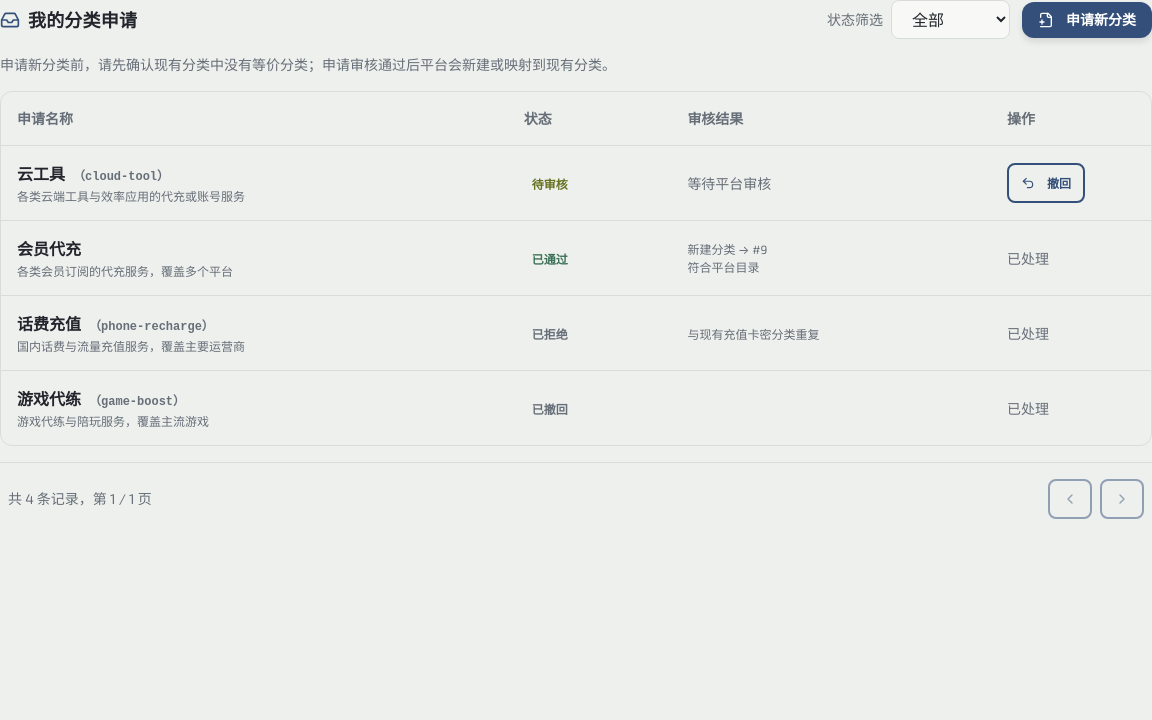
Test case: CategoryApplicationPanel › validates create input and prevents a second submit while the request is in flight
expect the row with test id "application-row-101" is shown: met, box [1,146,1151,221]
Click the button with test id "merchant-application-create".
click(1087, 20)  # box [1022,2,1151,38]
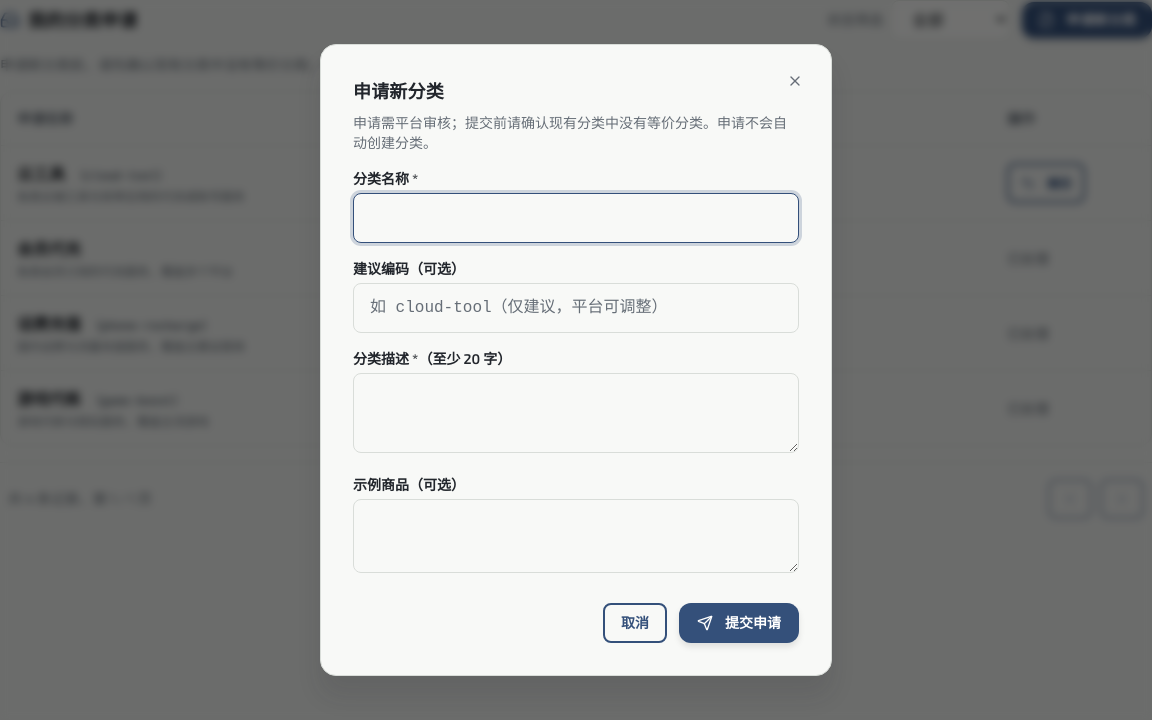
Type "云工具" into the field with test id "application-form-label".
click(576, 218); type("云工具")  # box [353,193,799,243]
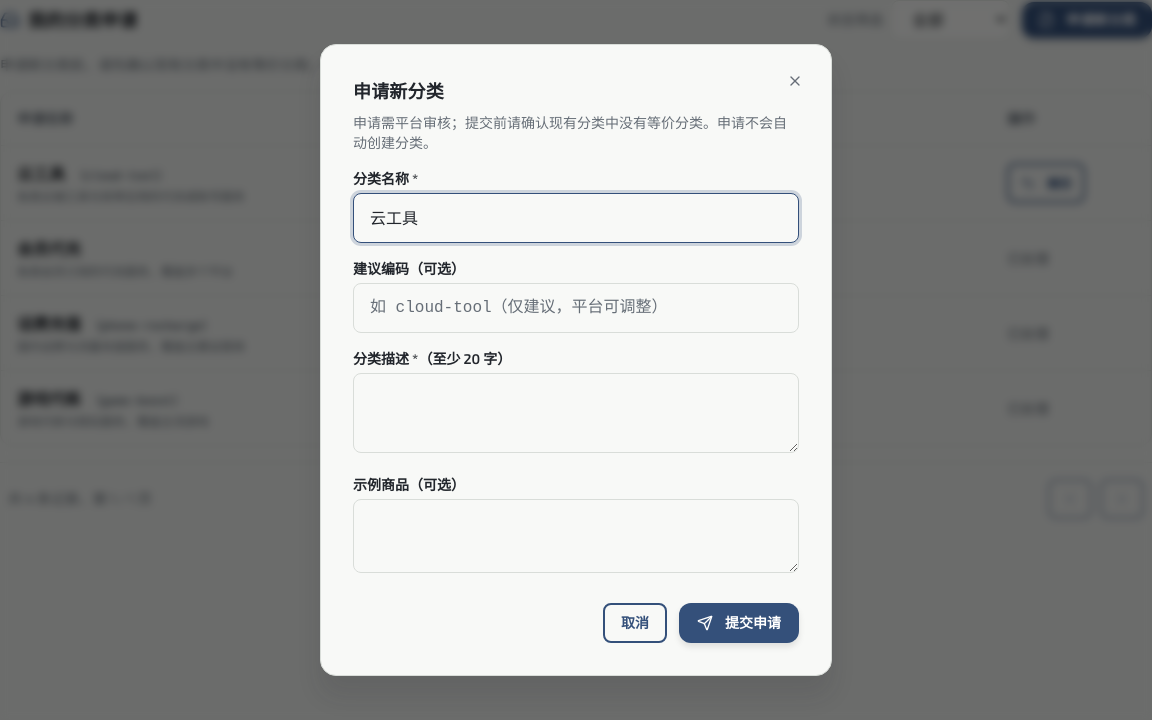
Type "这是一个用于验证分类申请流程的完整描述文本。" into the text box with test id "application-form-description".
click(576, 413); type("这是一个用于验证分类申请流程的完整描述文本。")  # box [353,373,799,453]
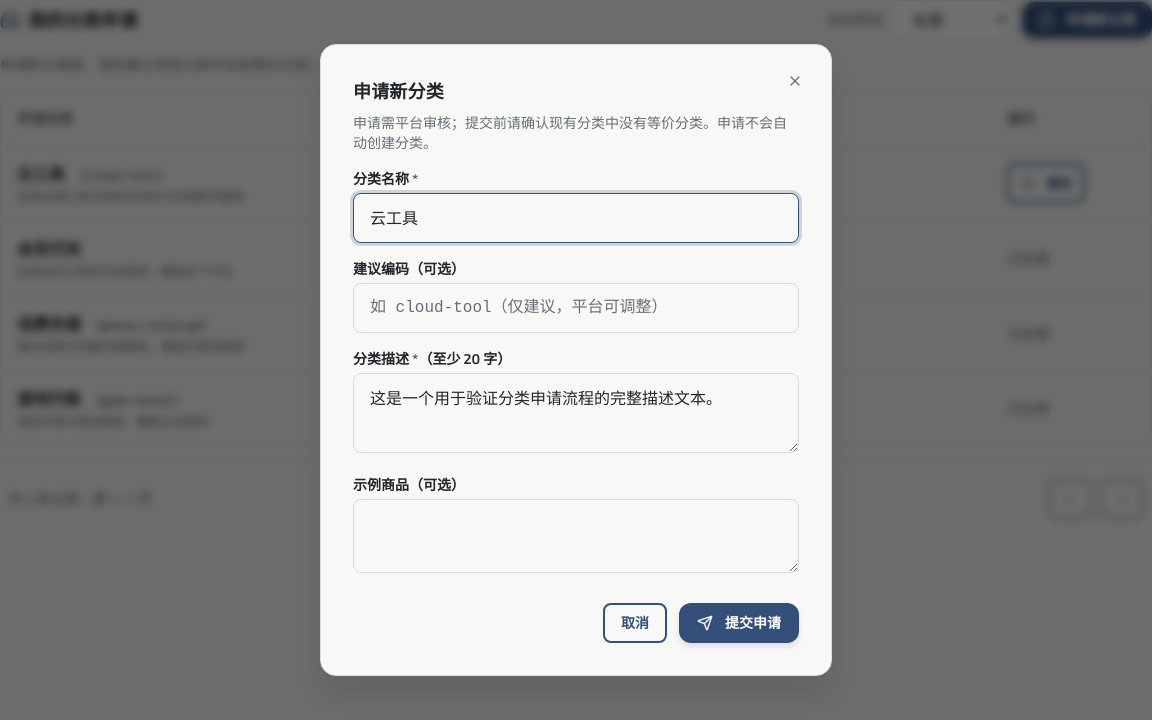
Click the button with test id "application-form-submit".
click(739, 623)  # box [679,603,799,643]
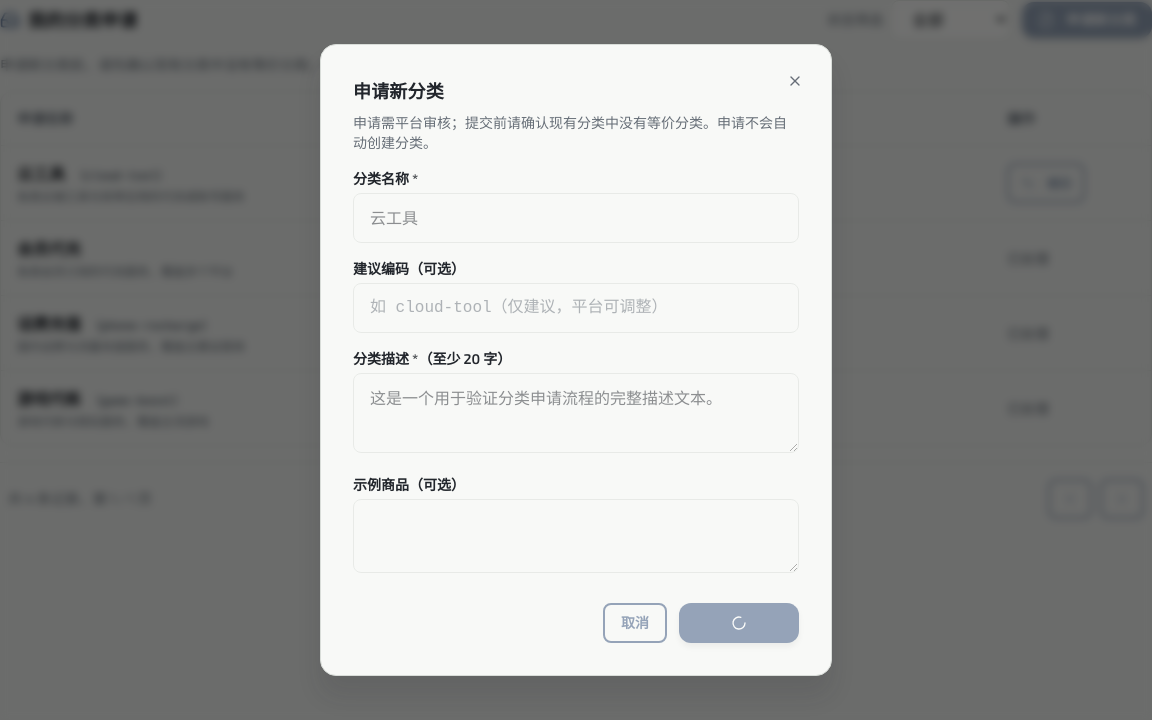
expect the button with test id "application-form-submit" is disabled: met
Click the button with test id "application-form-submit".
click(739, 623)  # box [679,603,799,643]
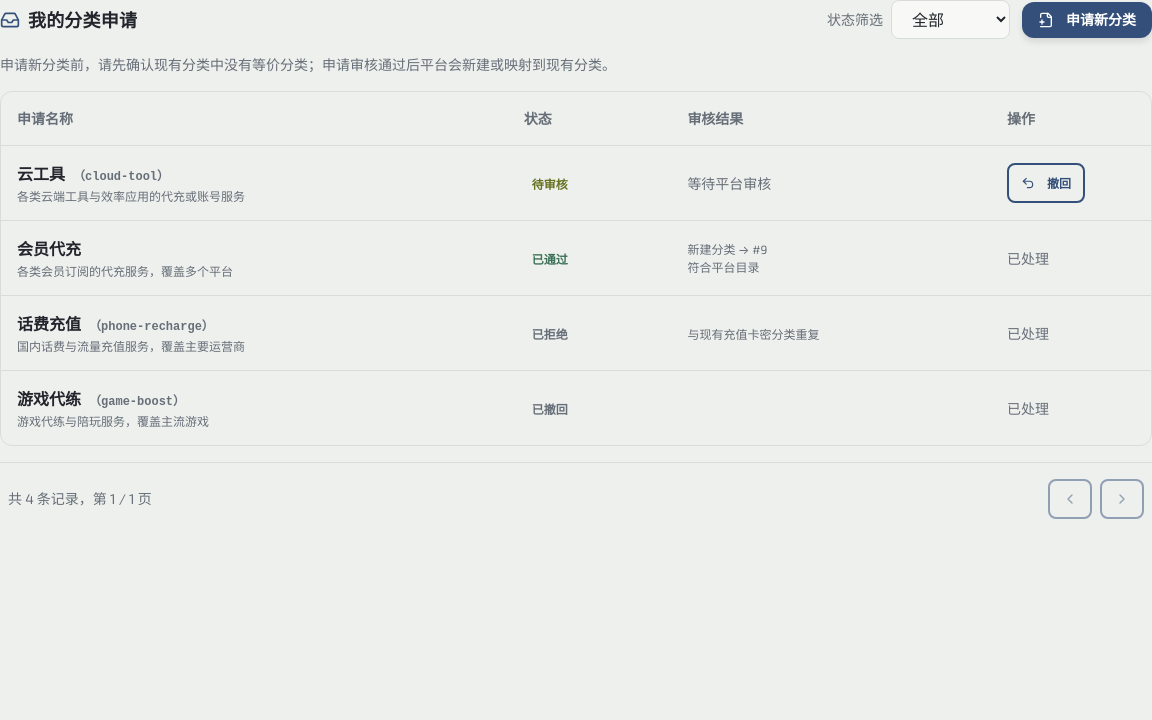
expect the button with test id "application-form-submit" is gone: met
